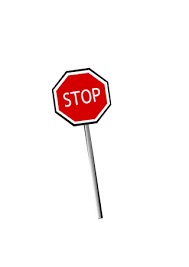SS: (51, 67, 112, 128)
